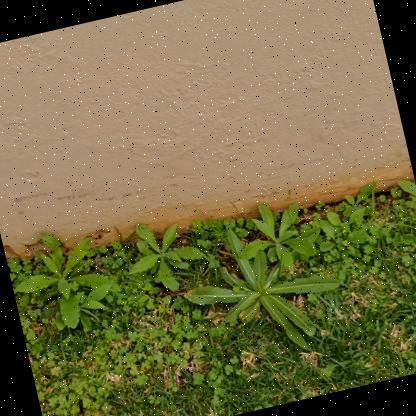Weeds: (171, 208, 353, 372), (4, 217, 130, 346), (230, 193, 321, 285), (119, 211, 212, 300), (396, 176, 415, 226)
